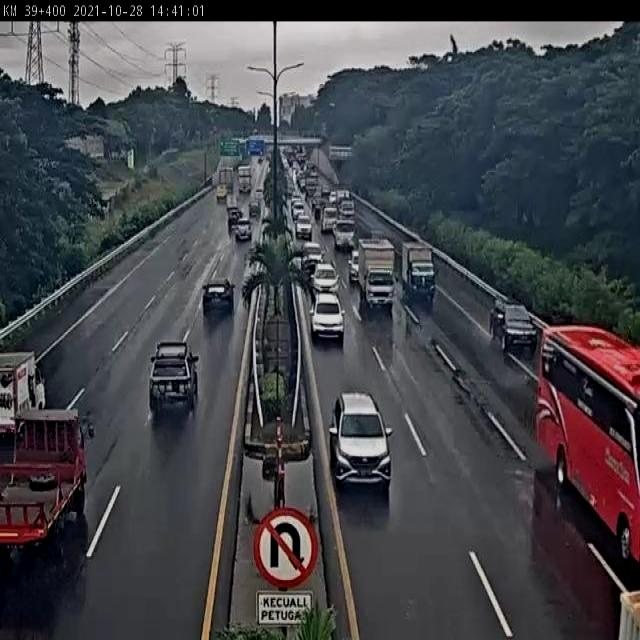Bus: (536, 326, 640, 581)
Car: (328, 389, 394, 490), (150, 344, 199, 419), (488, 299, 536, 357), (309, 292, 345, 342), (202, 278, 236, 316), (311, 262, 340, 295), (301, 241, 324, 277), (234, 218, 252, 242), (296, 214, 312, 240), (291, 198, 305, 220)
Truck: (0, 404, 88, 562), (0, 349, 51, 441), (356, 237, 398, 318), (402, 242, 438, 310), (332, 220, 356, 252), (320, 206, 338, 234), (339, 199, 355, 219)
